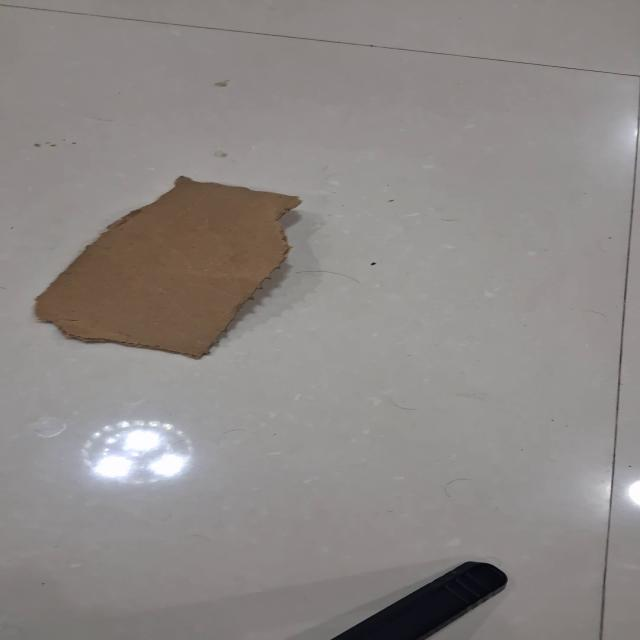paper: (32, 174, 302, 360)
